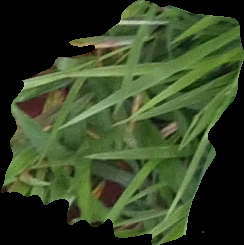grass: (1, 1, 243, 244)
